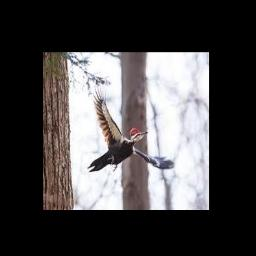Woodpecker: (88, 85, 175, 172)
